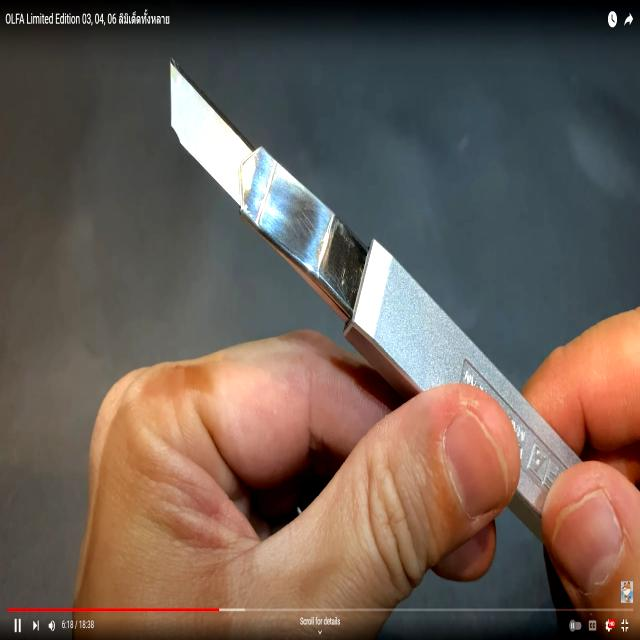cutter: (47, 15, 640, 640)
